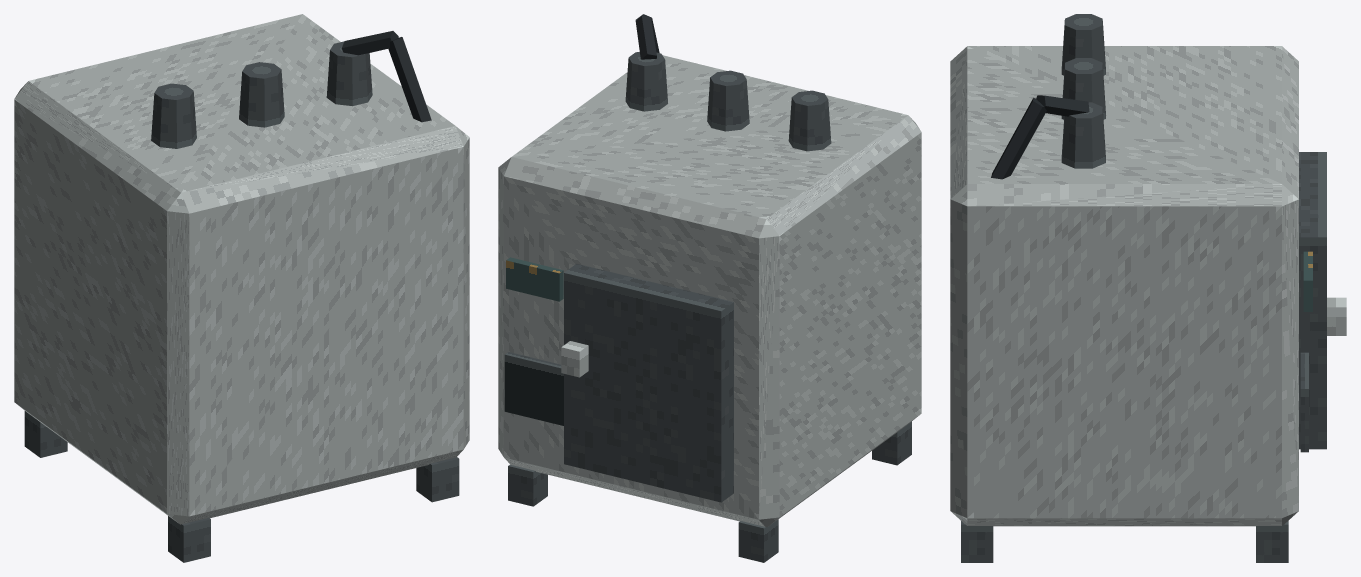
Rendered from f_arcfurnace_full.glb.
The picture shows the model from 3 angles, left to right: view 1: azimuth 30°, elevation 25°; view 2: azimuth 150°, elevation 25°; view 3: azimuth 270°, elevation 25°; orthographic projection. The views are drawn at different scales.
Visible parts, largest first — view 1: block_insulated-heating-chamber, block_insulated-service-terminal (×3), block_leg--0.332-0.332, block_leg-0.332-0.332, block_shielded-supply-line-2, block_leg--0.332--0.332, block_shielded-supply-line-1; view 2: block_insulated-heating-chamber, block_heating-chamber-door, block_insulated-service-terminal (×3), block_thermal-slotted-intake, block_heat-controller, block_leg--0.332--0.332, block_leg-0.332--0.332, block_leg--0.332-0.332, block_door-draw-latch, block_shielded-supply-line-1; view 3: block_insulated-heating-chamber, block_heating-chamber-door, block_insulated-service-terminal (×3), block_shielded-supply-line-2, block_leg-0.332--0.332, block_leg-0.332-0.332, block_thermal-slotted-intake, block_shielded-supply-line-1, block_door-draw-latch, block_heat-controller.
Part boxes in pixels (x1=…): block_insulated-heating-chamber: x1=14, y1=14, x2=469, y2=524; block_insulated-service-terminal (×3): x1=151, y1=41, x2=372, y2=148; block_leg--0.332-0.332: x1=168, y1=516, x2=210, y2=562; block_leg-0.332-0.332: x1=416, y1=457, x2=459, y2=502; block_shielded-supply-line-2: x1=388, y1=37, x2=431, y2=122; block_leg--0.332--0.332: x1=24, y1=411, x2=67, y2=457; block_shielded-supply-line-1: x1=341, y1=31, x2=398, y2=55; block_insulated-heating-chamber: x1=498, y1=55, x2=921, y2=527; block_heating-chamber-door: x1=564, y1=263, x2=733, y2=502; block_insulated-service-terminal (×3): x1=625, y1=52, x2=831, y2=151; block_thermal-slotted-intake: x1=504, y1=352, x2=563, y2=425; block_heat-controller: x1=506, y1=257, x2=563, y2=301; block_leg--0.332--0.332: x1=738, y1=519, x2=778, y2=562; block_leg-0.332--0.332: x1=508, y1=464, x2=547, y2=506; block_leg--0.332-0.332: x1=872, y1=421, x2=911, y2=465; block_door-draw-latch: x1=561, y1=341, x2=588, y2=377; block_shielded-supply-line-1: x1=635, y1=15, x2=656, y2=59; block_insulated-heating-chamber: x1=950, y1=46, x2=1298, y2=526; block_heating-chamber-door: x1=1299, y1=152, x2=1326, y2=449; block_insulated-service-terminal (×3): x1=1061, y1=14, x2=1105, y2=168; block_shielded-supply-line-2: x1=991, y1=97, x2=1046, y2=179; block_leg-0.332--0.332: x1=1256, y1=521, x2=1288, y2=562; block_leg-0.332-0.332: x1=961, y1=521, x2=993, y2=562; block_thermal-slotted-intake: x1=1300, y1=352, x2=1308, y2=452; block_shielded-supply-line-1: x1=1036, y1=95, x2=1089, y2=116; block_door-draw-latch: x1=1327, y1=297, x2=1346, y2=335; block_heat-controller: x1=1303, y1=251, x2=1312, y2=311.
Size of the model in its own units: 0.81 by 1.13 by 0.891.
1 material, 1 textured.
